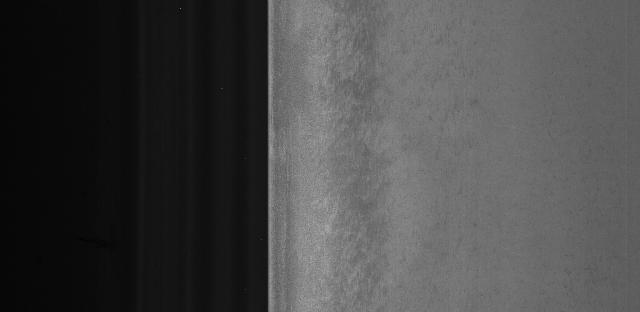silk_spot: (322, 26, 399, 288)
